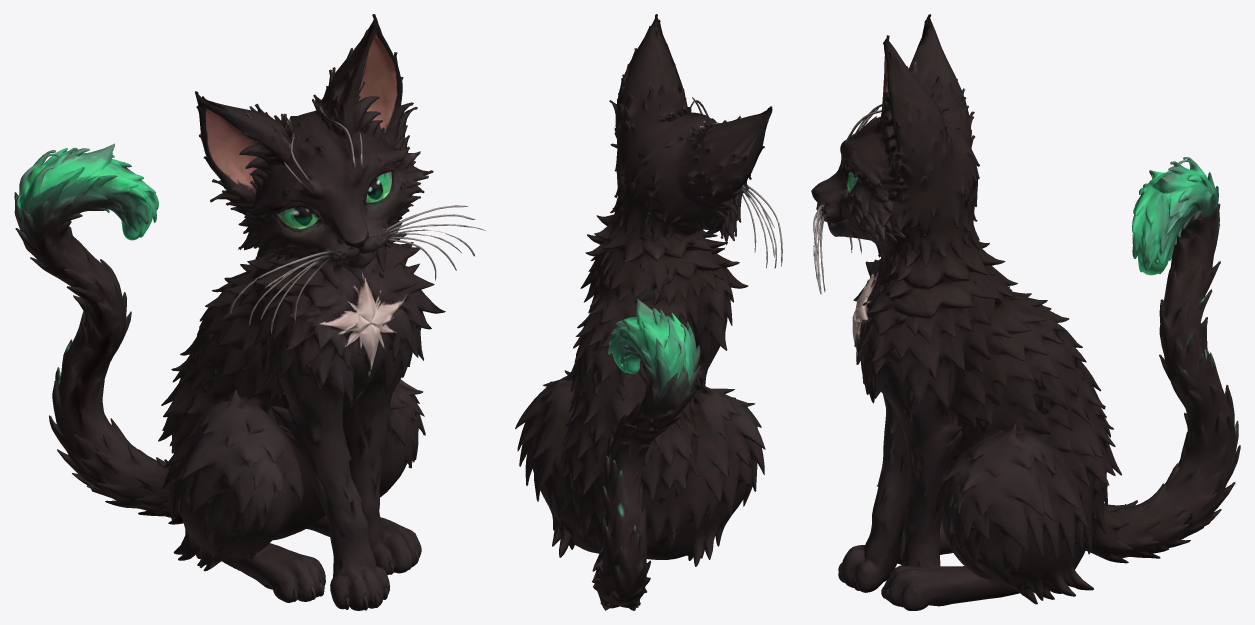
The model's file is figurine-catsith.glb.
The picture shows the model from 3 angles, left to right: view 1: azimuth 30°, elevation 25°; view 2: azimuth 150°, elevation 25°; view 3: azimuth 270°, elevation 25°; orthographic projection. The views are drawn at different scales.
Visible parts, largest first — view 1: tripo_node_18acf00d-3e6d-49c8-a81d-2682bc90d5b4; view 2: tripo_node_18acf00d-3e6d-49c8-a81d-2682bc90d5b4; view 3: tripo_node_18acf00d-3e6d-49c8-a81d-2682bc90d5b4.
Boxes of the visible parts, bbox=[...] form: tripo_node_18acf00d-3e6d-49c8-a81d-2682bc90d5b4: bbox=[14, 14, 485, 610]; tripo_node_18acf00d-3e6d-49c8-a81d-2682bc90d5b4: bbox=[515, 14, 782, 610]; tripo_node_18acf00d-3e6d-49c8-a81d-2682bc90d5b4: bbox=[811, 14, 1240, 610].
Size of the model in its own units: 0.5268 by 0.9775 by 0.679.
1 material, 1 textured.
